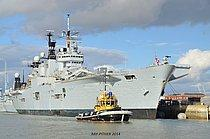MIL_Ship: (9, 13, 168, 111)
